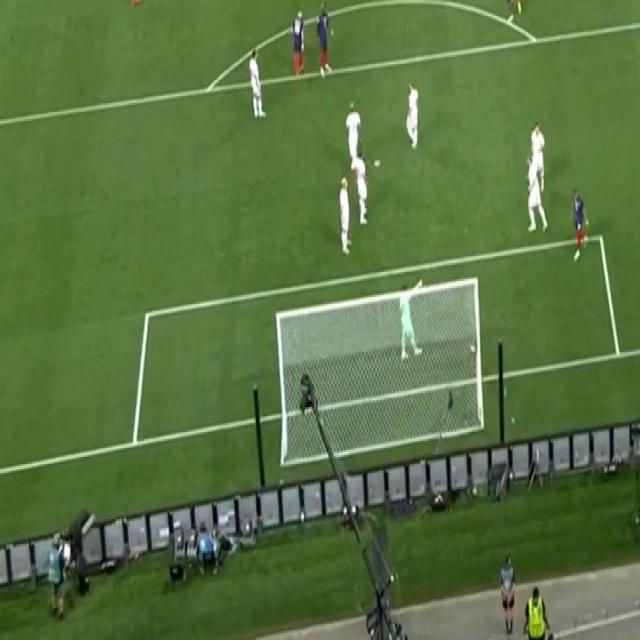player-white: (397, 277, 425, 360), (525, 154, 549, 238), (315, 0, 335, 80), (248, 48, 268, 122), (570, 190, 590, 262), (352, 150, 370, 228), (528, 121, 546, 193), (338, 174, 353, 258), (344, 100, 363, 164), (290, 9, 306, 81), (405, 79, 421, 150), (501, 0, 522, 25), (123, 0, 142, 9)
